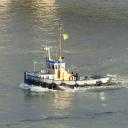tugboat: (25, 22, 114, 95)
